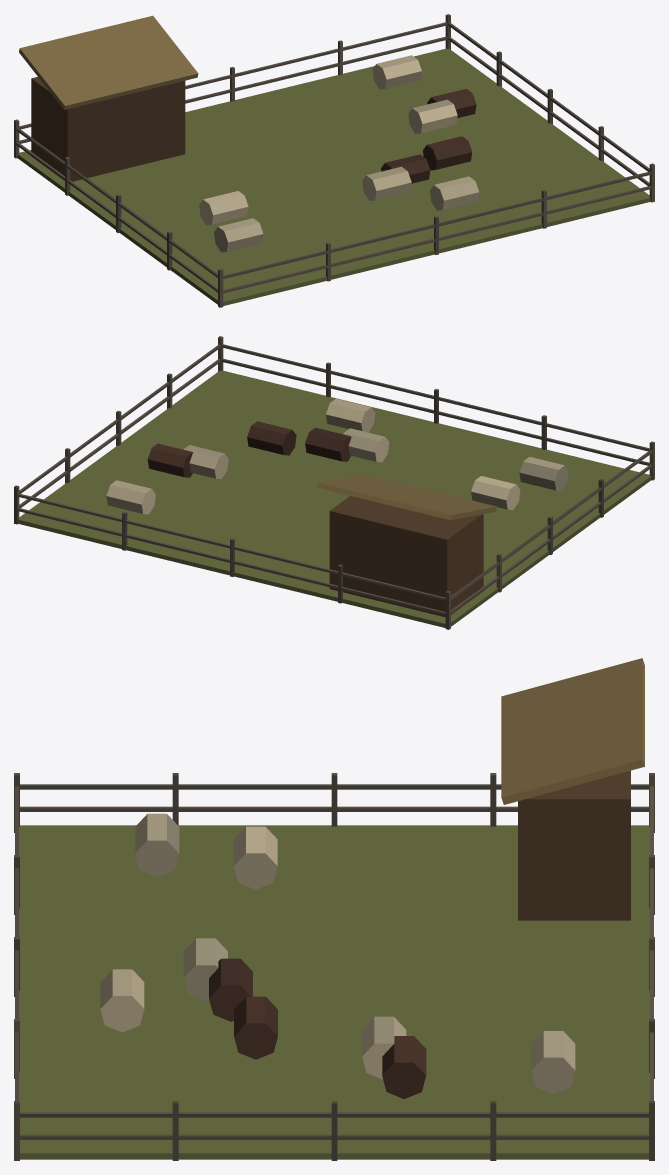
File: yard_pasture.glb
3 renders of one model, top to bottom at view 1: azimuth 30°, elevation 25°; view 2: azimuth 150°, elevation 25°; view 3: azimuth 270°, elevation 25°, orthographic. The views are drawn at different scales.
Visible parts, largest first — view 1: yard_pasture; view 2: yard_pasture; view 3: yard_pasture.
Boxes of the visible parts, bbox=[...] form: yard_pasture: bbox=[14, 14, 654, 307]; yard_pasture: bbox=[14, 336, 654, 629]; yard_pasture: bbox=[14, 658, 654, 1160].
Size of the model in its own units: 11.08 by 2.71 by 9.08.
1 material, 1 textured.
